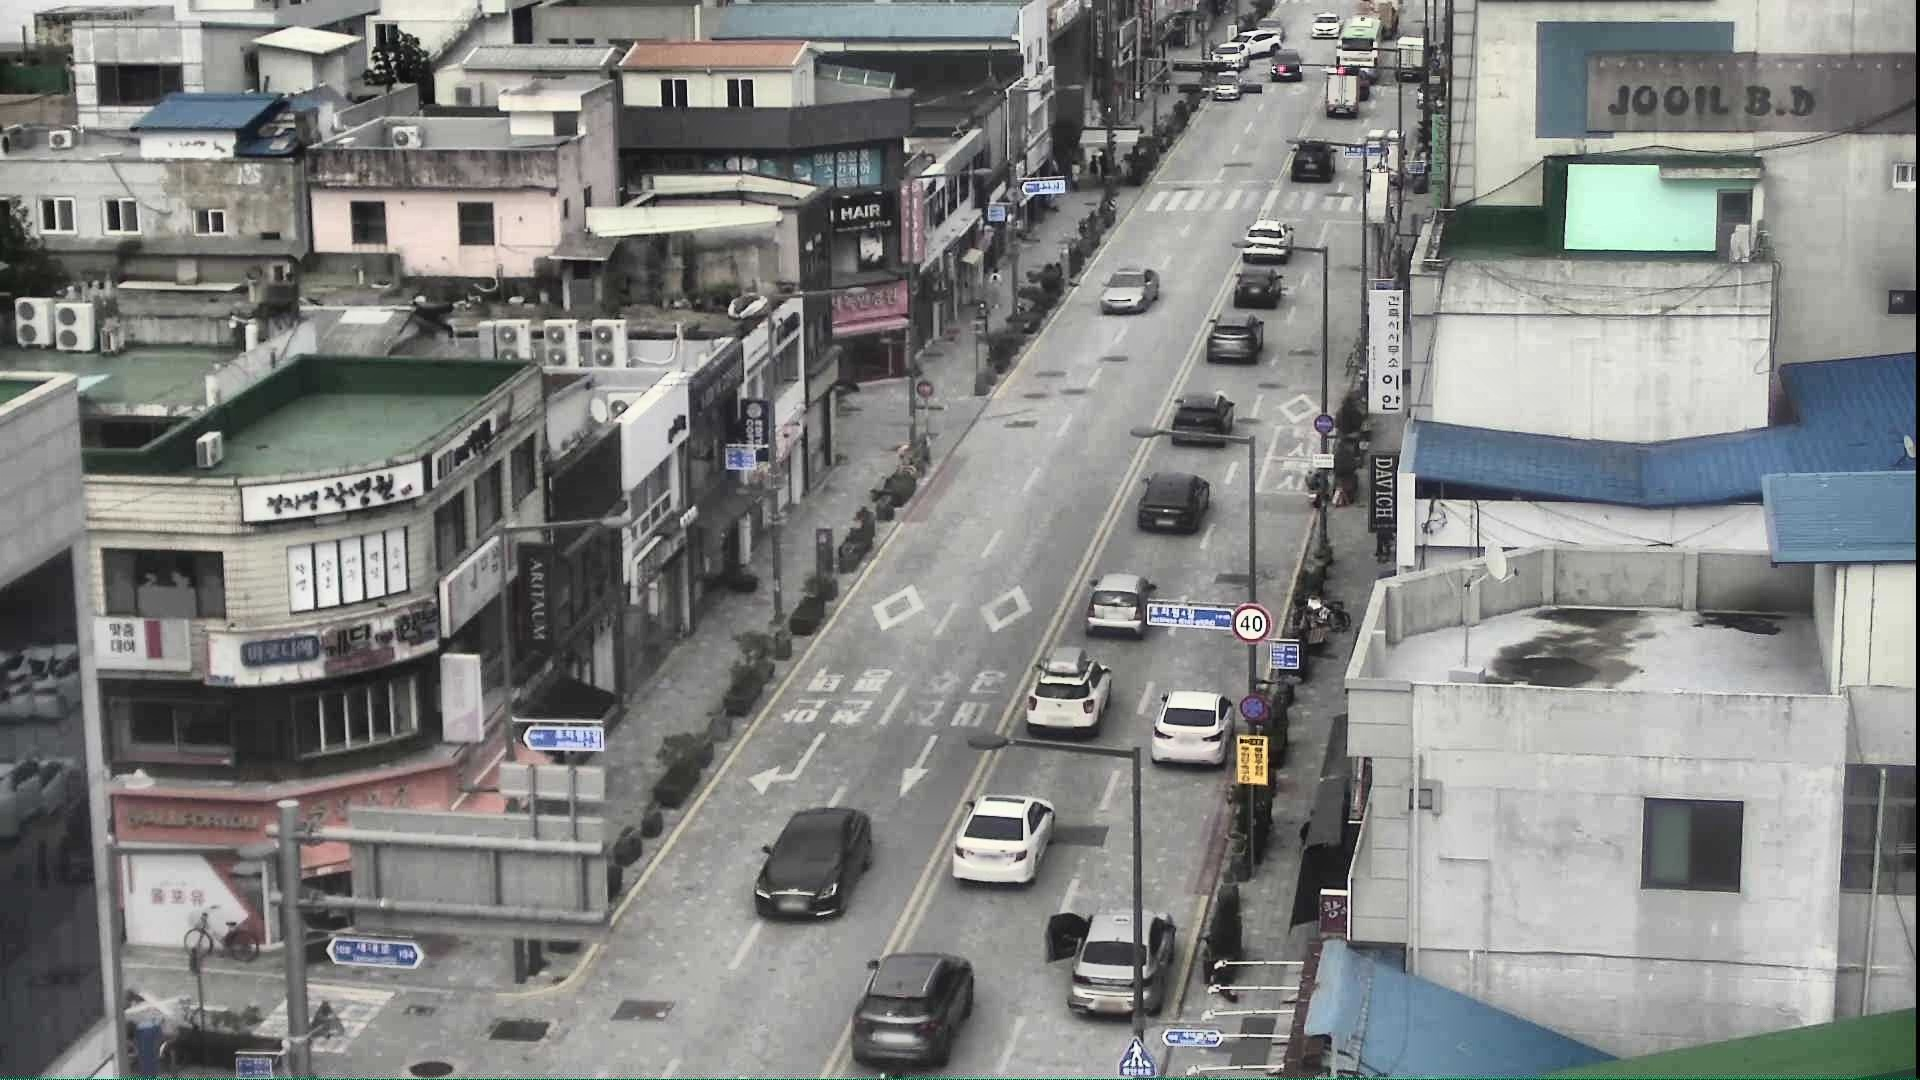sidewalk: (986, 266, 1002, 313), (1068, 158, 1081, 193)
